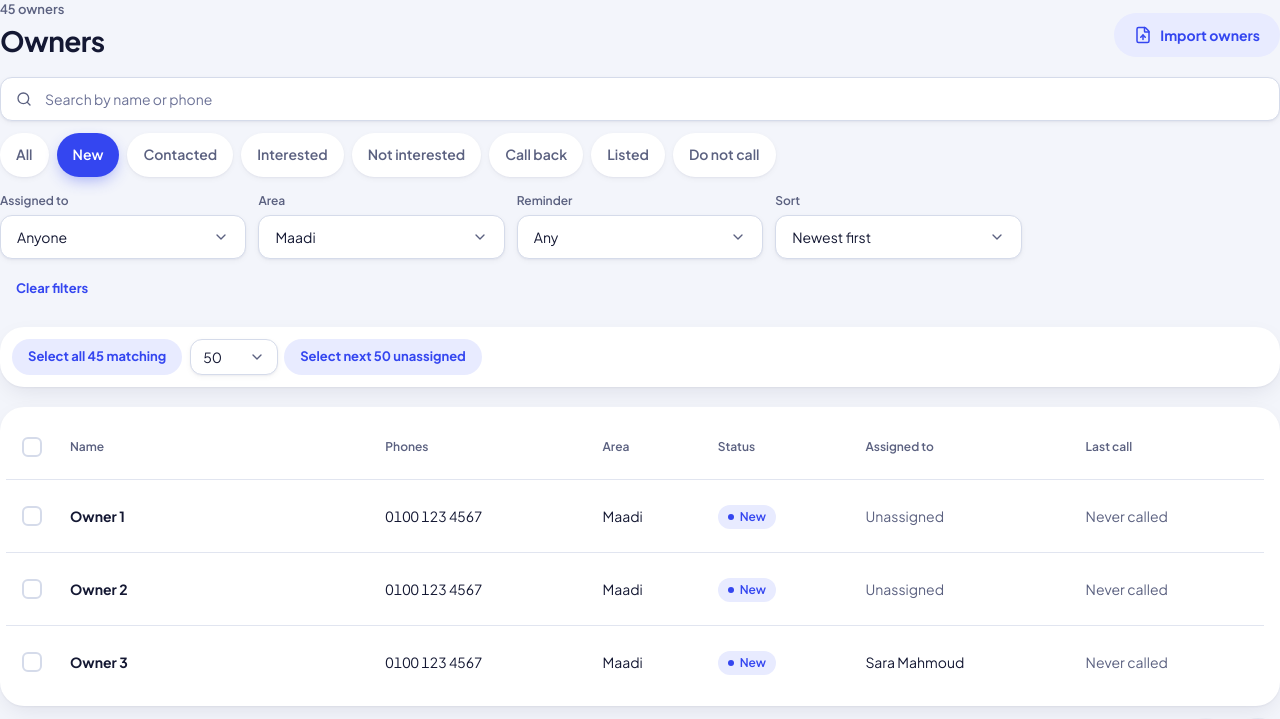
Scenario: Admin owners table › selects every matching owner across pages, then assigns them all
The width and height of the screenshot is (1280, 719).
Click the button with test id "select-all-matching" at {"x": 97, "y": 357}, box left=12, top=339, right=182, bottom=375
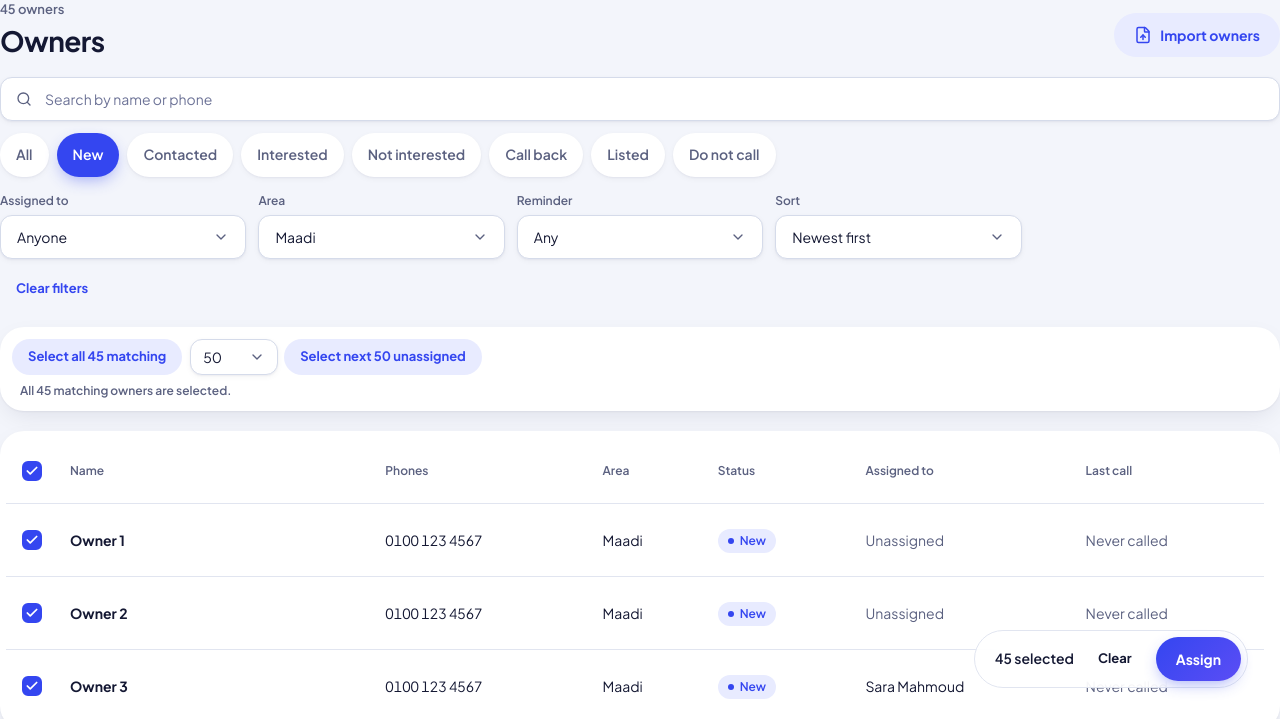
Expected: the element with test id "selection-dock" shows "45 selected", left=995, top=649, right=1074, bottom=667
Click the button with test id "open-assign" at {"x": 1198, "y": 659}, box left=1156, top=637, right=1241, bottom=681
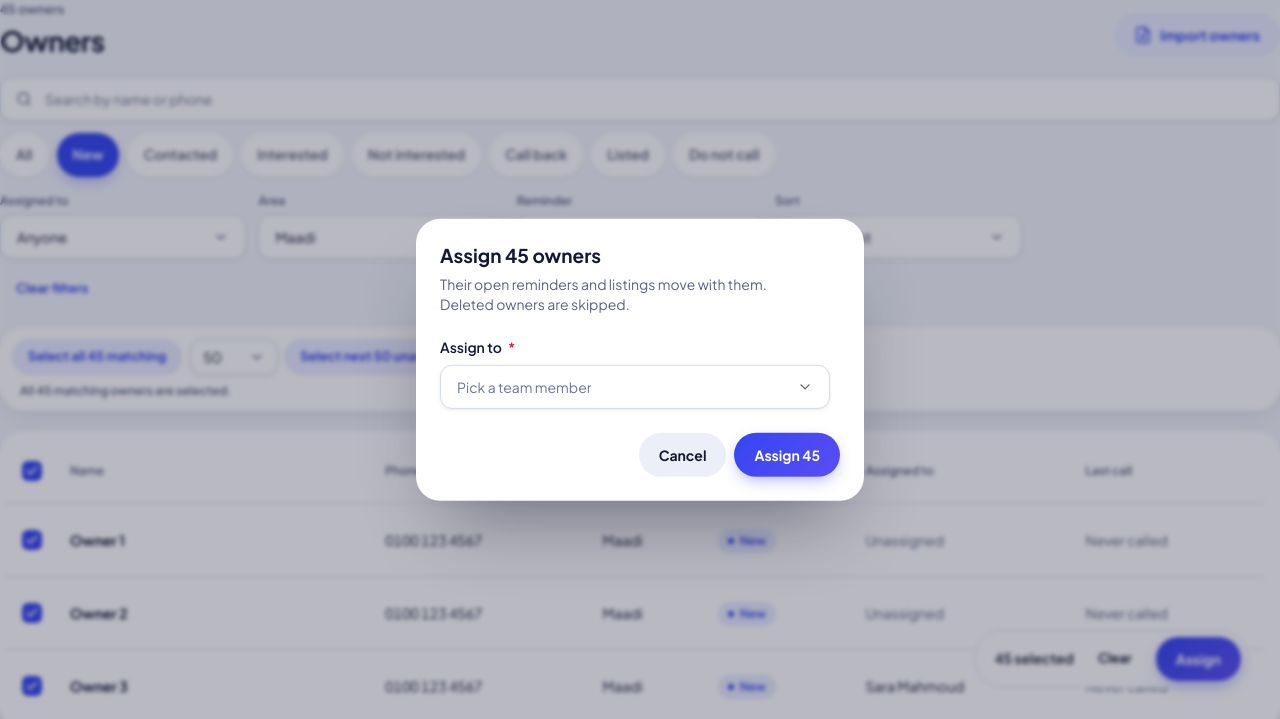
Expected: the dialog shows "Assign 45 owners", left=440, top=243, right=601, bottom=267
Click the dropdown with test id "assignee-select" at {"x": 524, "y": 387}, box left=440, top=365, right=830, bottom=409
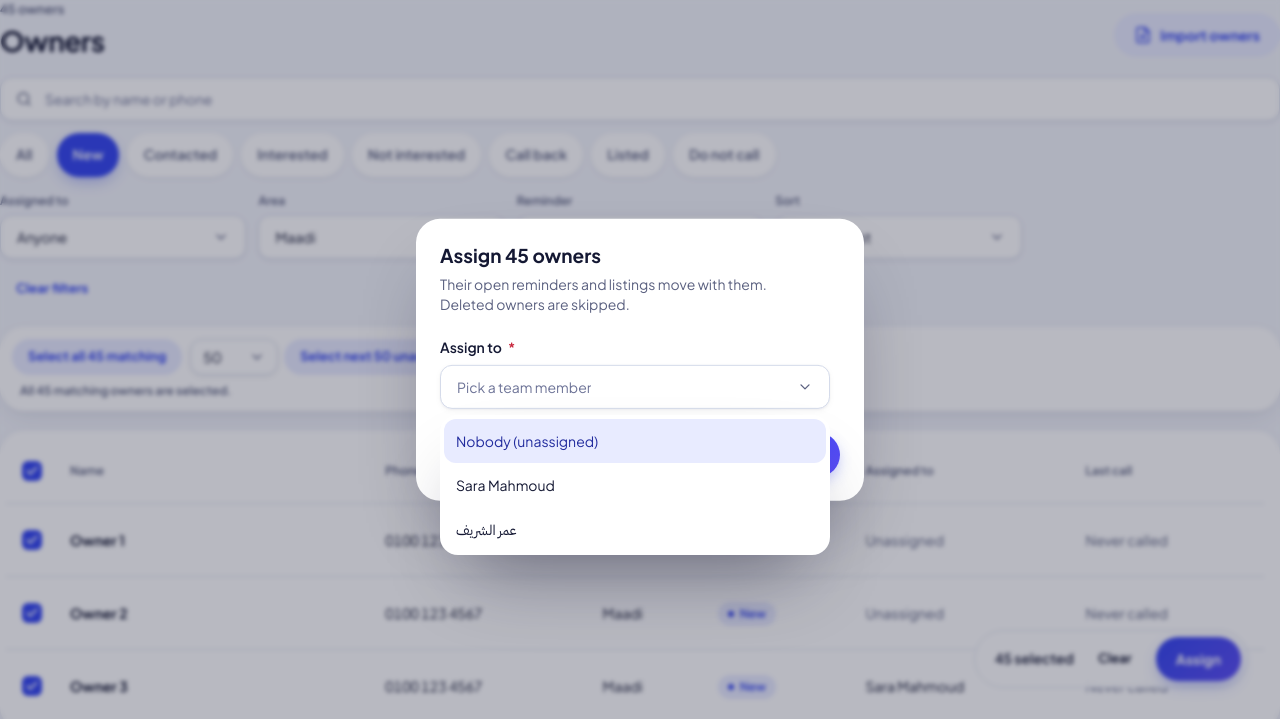
Click the option "Sara Mahmoud" at {"x": 505, "y": 485}, box left=456, top=476, right=555, bottom=494
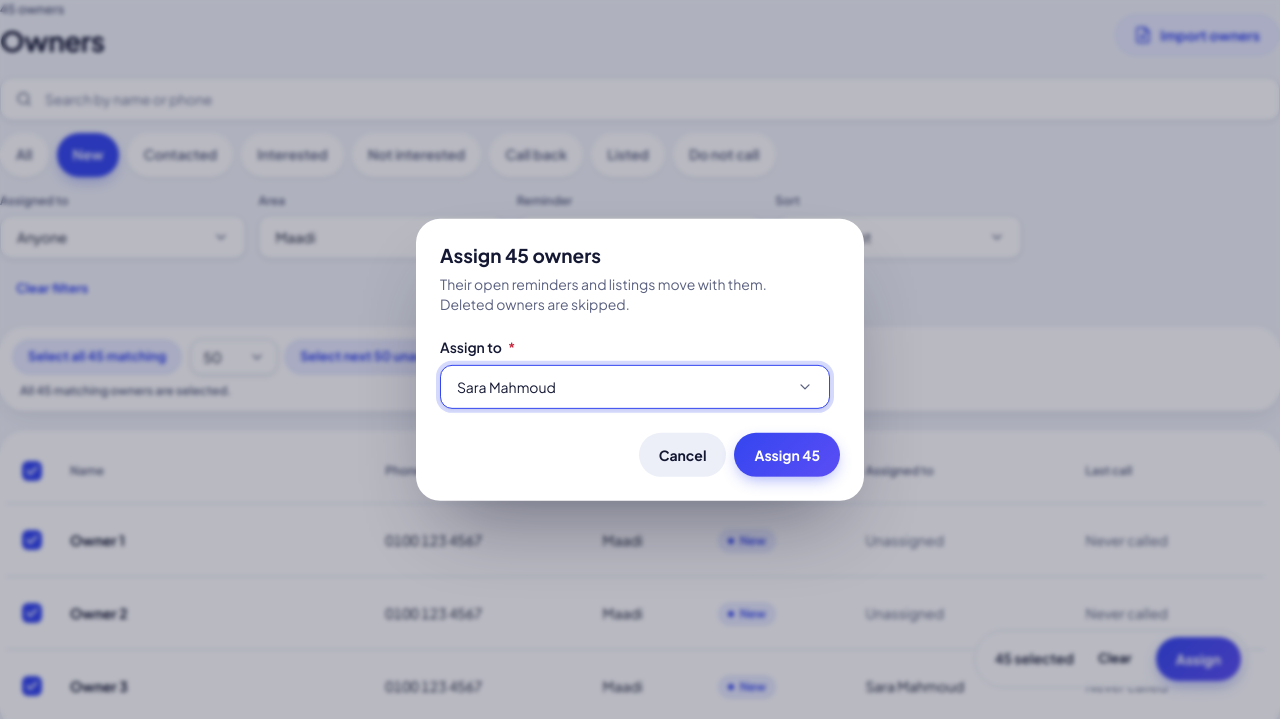
Click the button with test id "assign-confirm" at {"x": 787, "y": 455}, box left=734, top=433, right=840, bottom=477
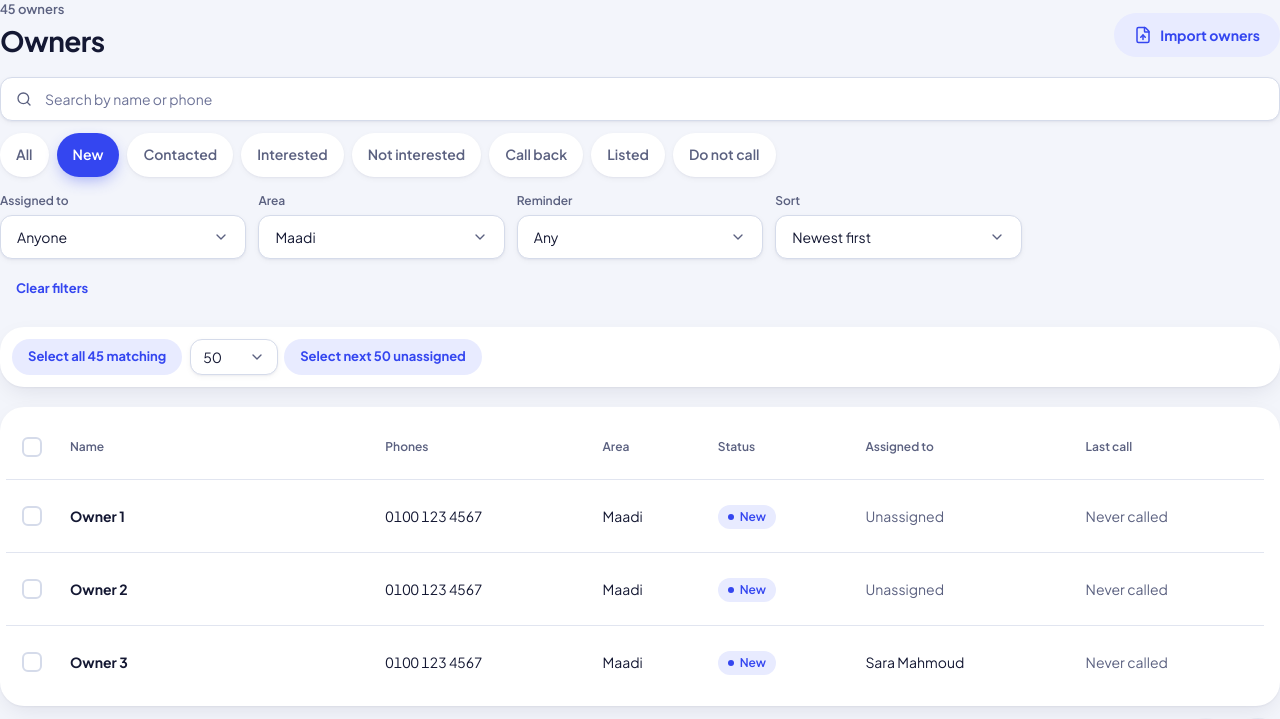
Expected: the element with test id "selection-dock" is gone
